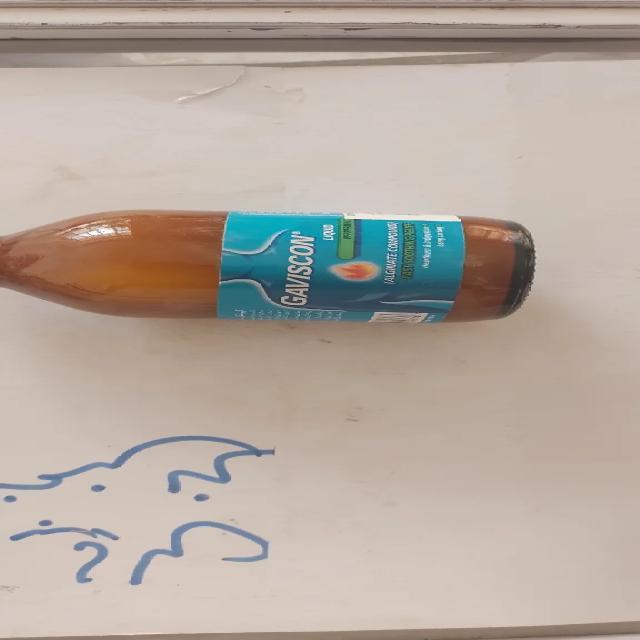drug-name: (280, 231, 318, 309)
